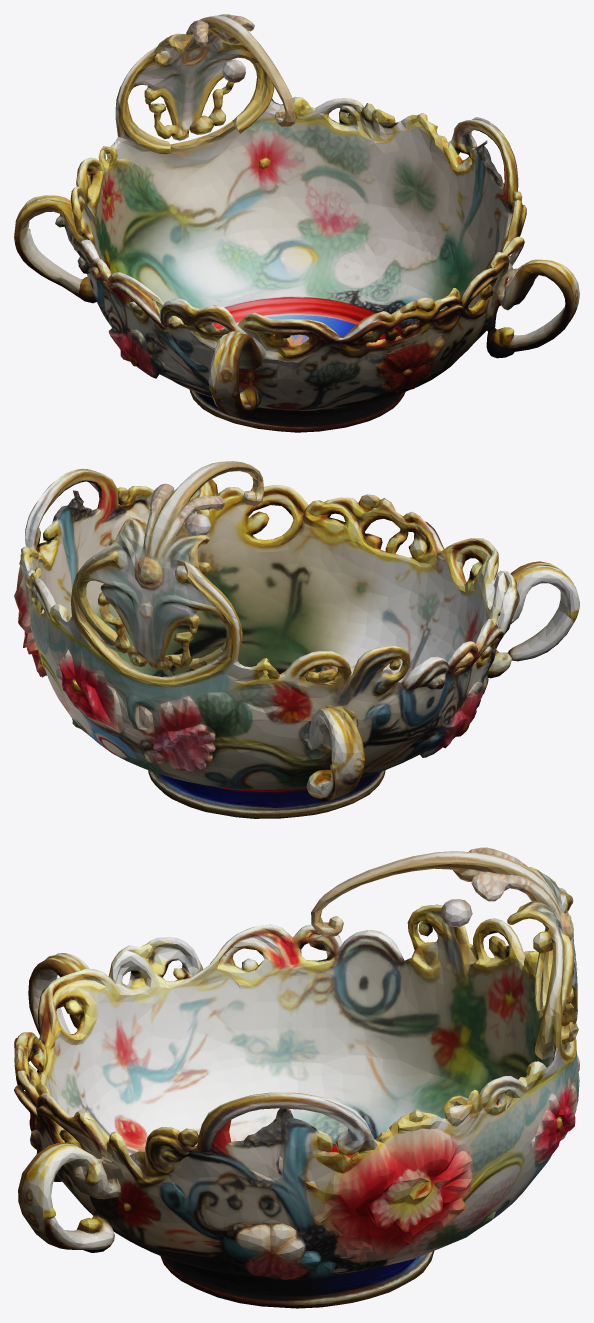
The model's file is porcelain-fine-china-3d.jpeg.glb.
The picture shows the model from 3 angles, top to bottom: view 1: azimuth 30°, elevation 25°; view 2: azimuth 150°, elevation 25°; view 3: azimuth 270°, elevation 25°; orthographic projection. The views are drawn at different scales.
Parts seen in each view (by area): view 1: world; view 2: world; view 3: world.
Boxes of the visible parts, left/top/right/bottom form: world: left=14, top=14, right=579, bottom=432; world: left=14, top=461, right=579, bottom=818; world: left=14, top=847, right=579, bottom=1308.
Bounding box in the file's own units: 1 × 0.7743 × 0.9982.
Materials: 1 (1 with a texture image).
